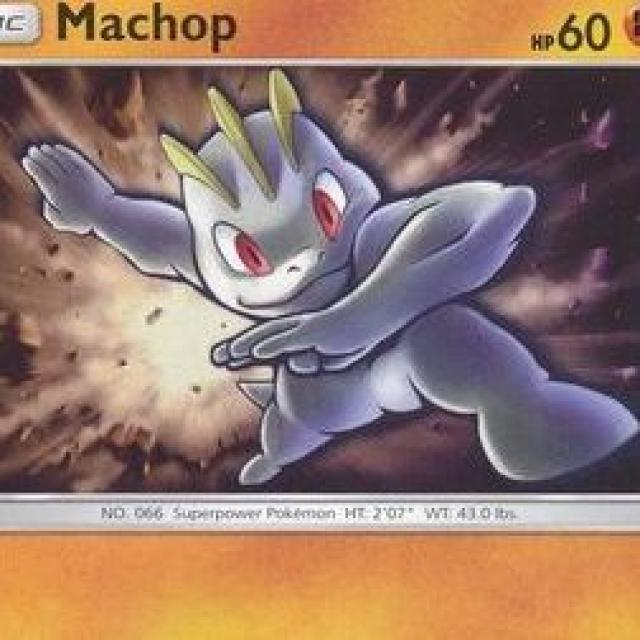Machop: (116, 85, 544, 493)
